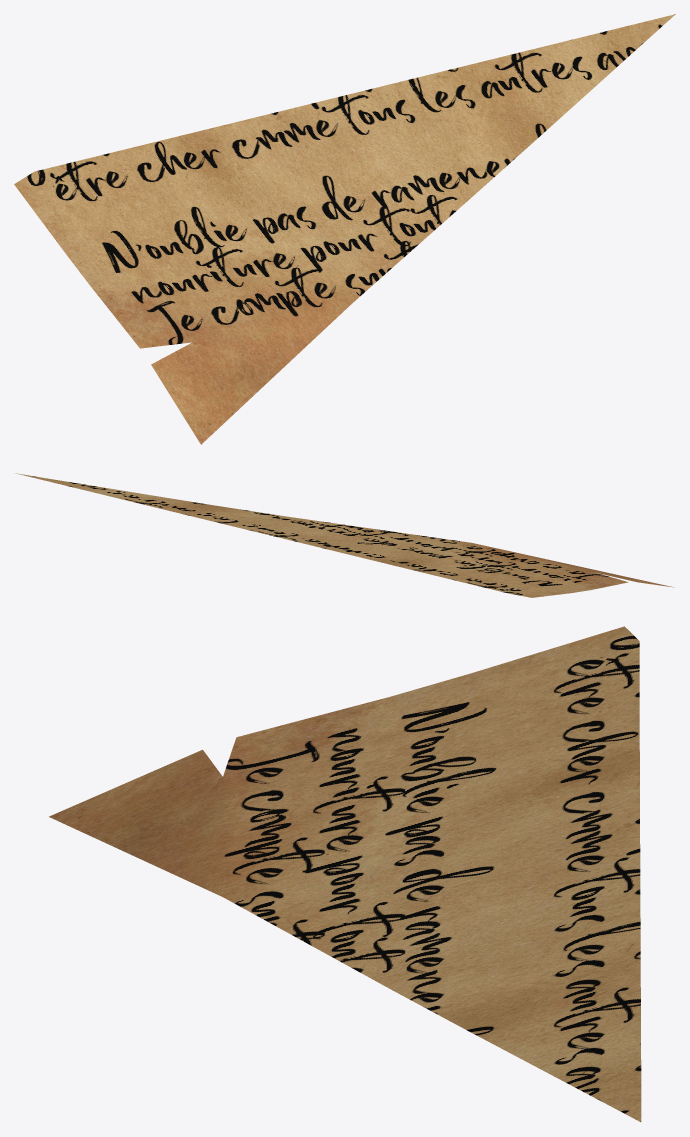
File: lettre_partie4.fbx
The picture shows the model from 3 angles, top to bottom: view 1: azimuth 30°, elevation 25°; view 2: azimuth 150°, elevation 25°; view 3: azimuth 270°, elevation 25°; orthographic projection. The views are drawn at different scales.
Parts seen in each view (by area): view 1: polySurface3; view 2: polySurface3; view 3: polySurface3.
Part boxes in pixels (x1,y1,x2,y2): polySurface3: (14, 14, 675, 444); polySurface3: (16, 473, 674, 597); polySurface3: (49, 626, 641, 1121).
Bounding box in the file's own units: 4.73 × 0.8594 × 2.36.
